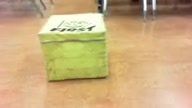cube: (38, 13, 106, 82)
